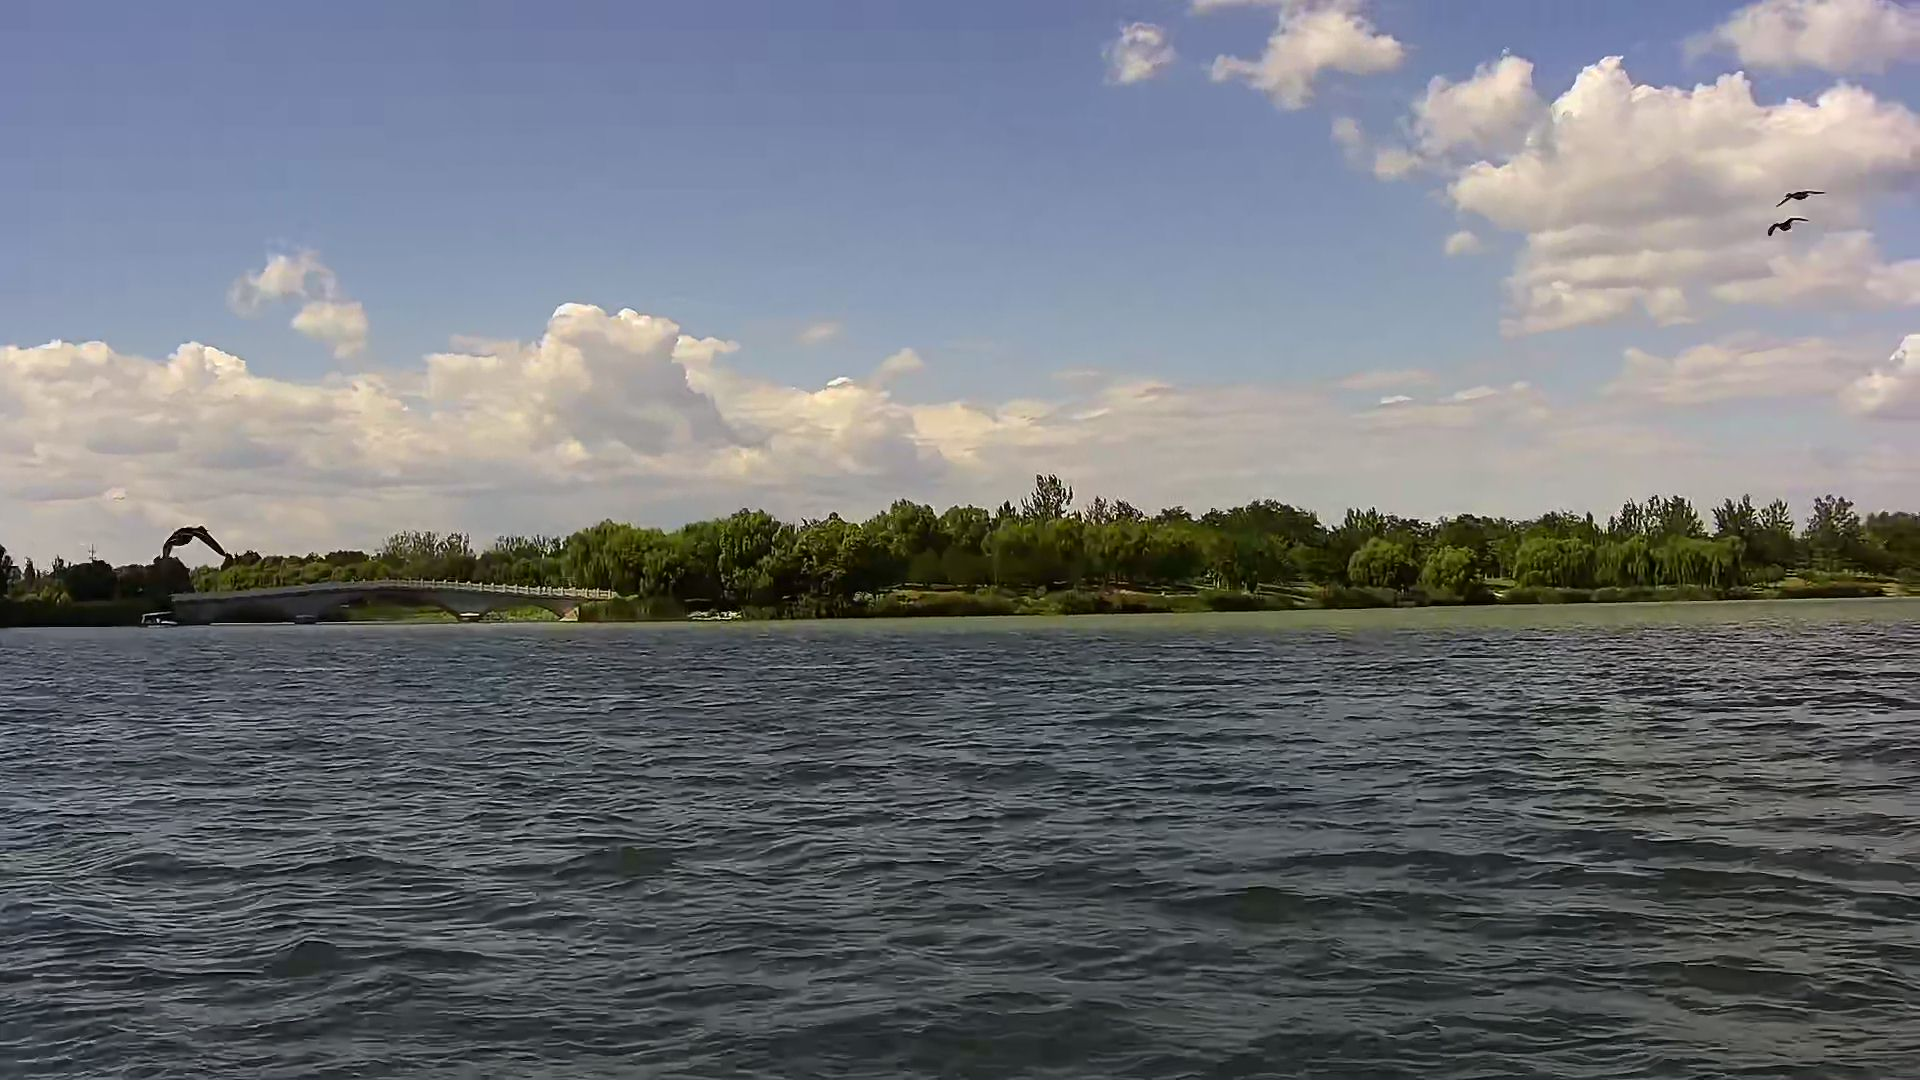bridge: (171, 578, 625, 626)
